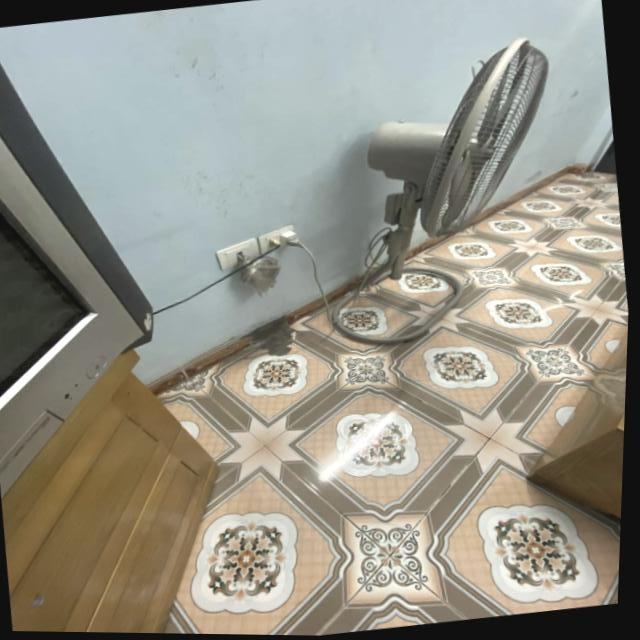outlet: (214, 236, 263, 272), (258, 223, 300, 256)
